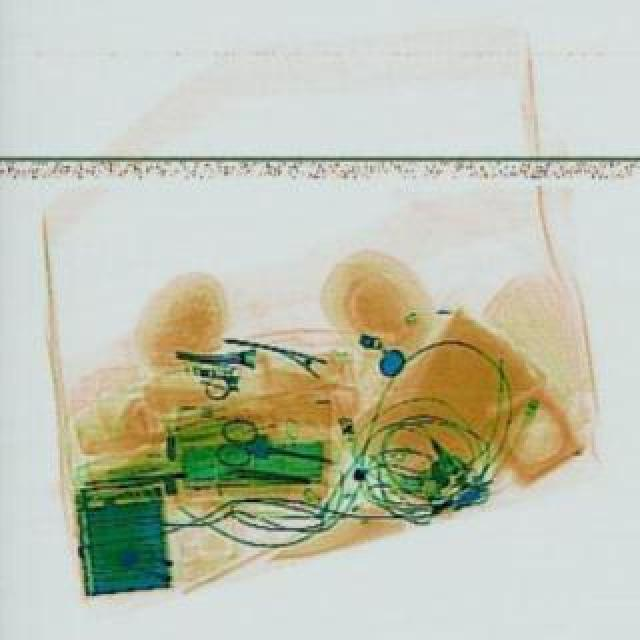pliers: (210, 410, 334, 484)
